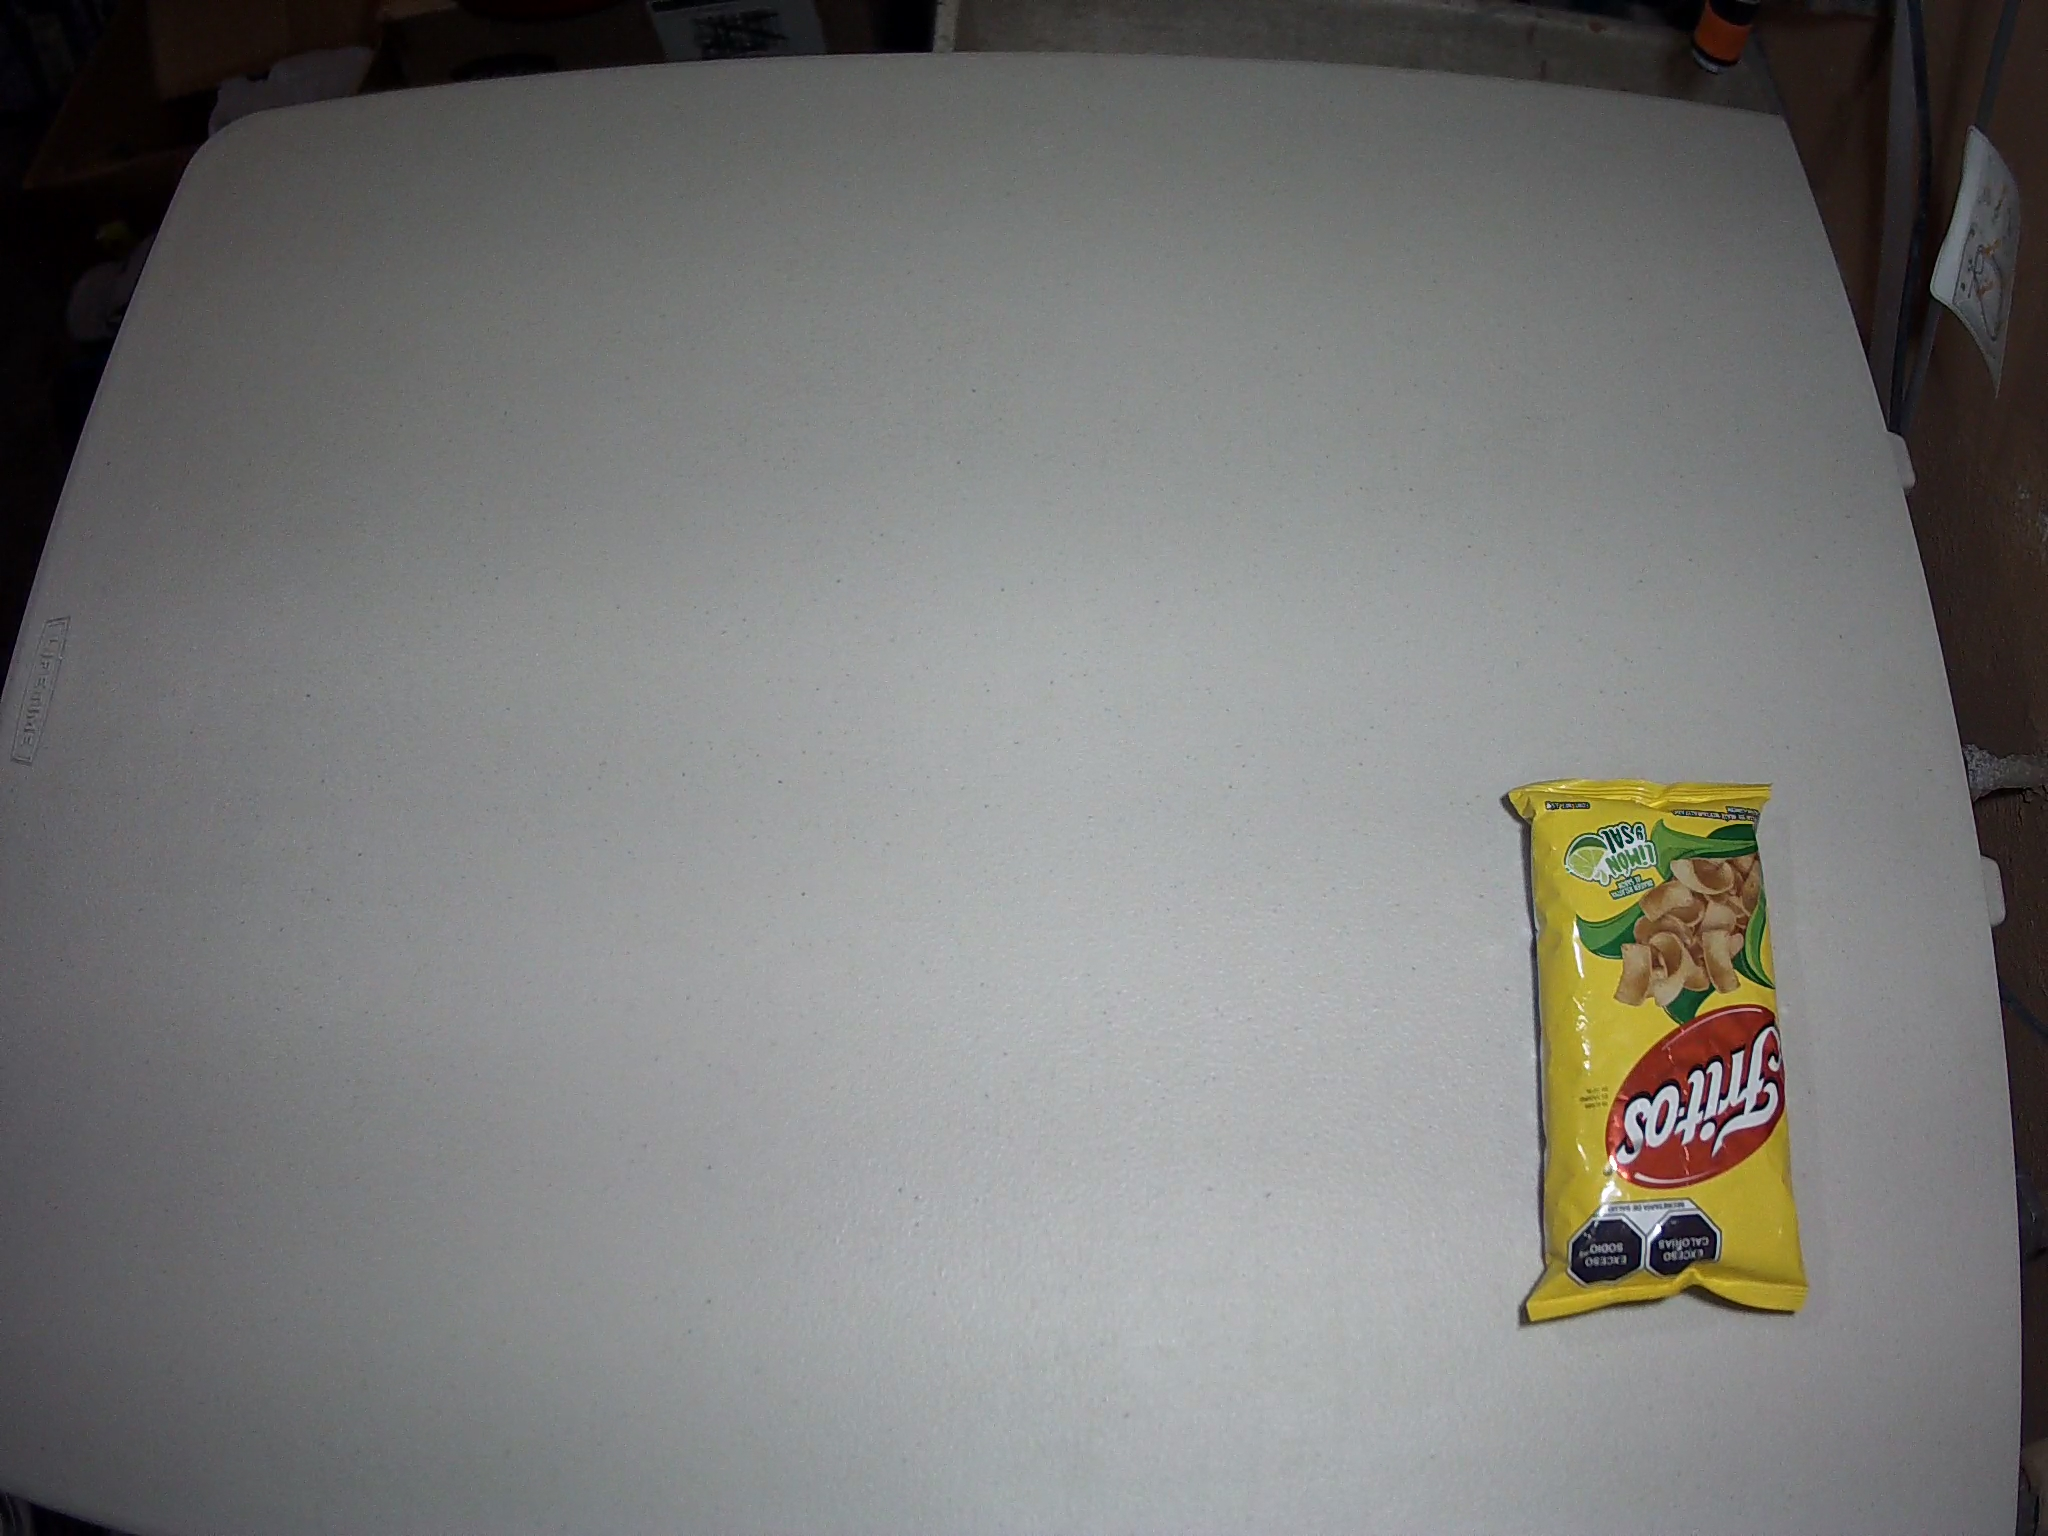FritosSalLimon_65_F: (1505, 779, 1808, 1323)
